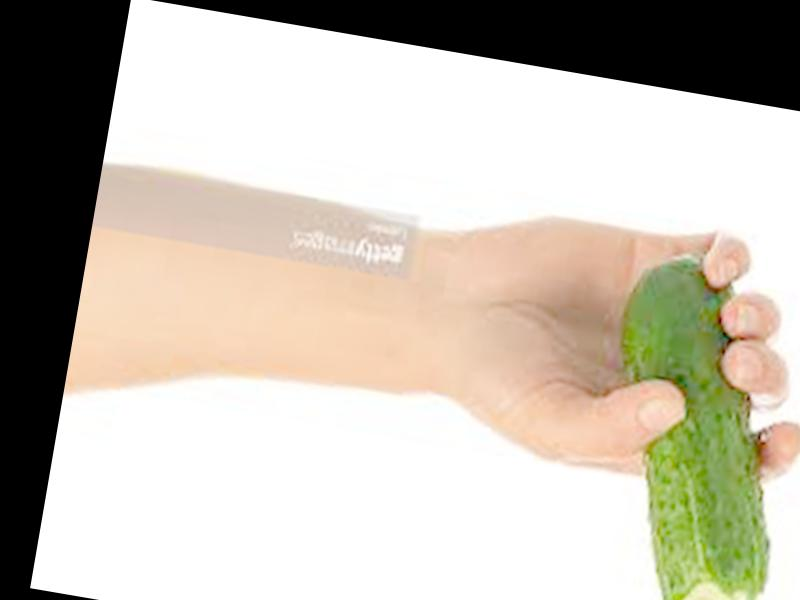Cucumber: (576, 249, 800, 600)
